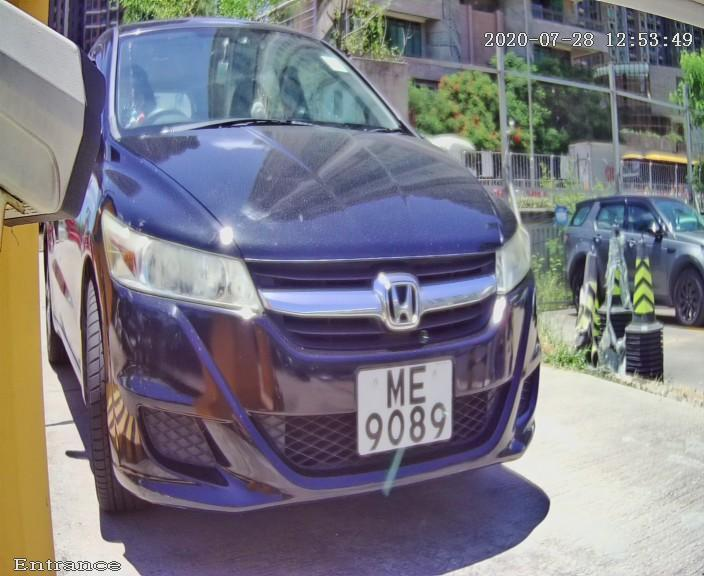privatecar: (16, 13, 607, 561)
